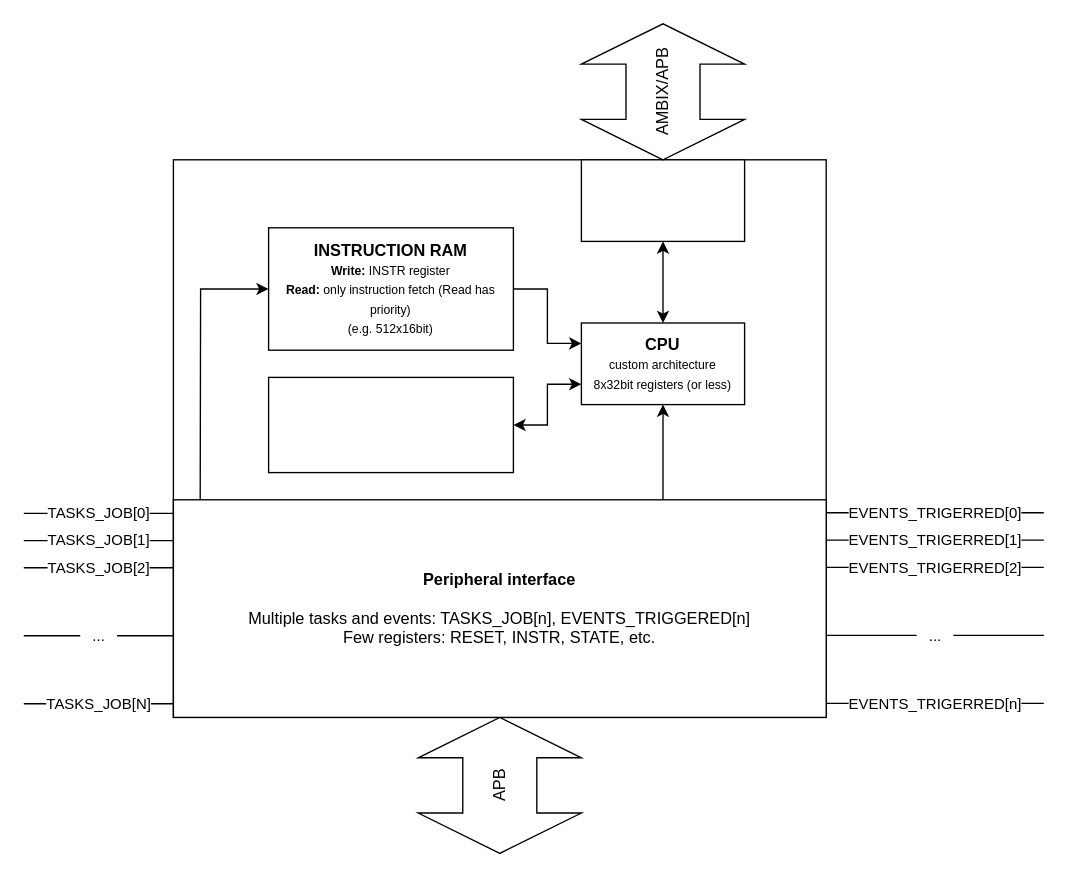
Image size: 1069x877. Some labels were removed from this diagram. Here are the shapes that lost their labels. From the top down, the centre of each, then its label:
At (662,199): "AMBIX/APB bridge Accessible with IN/OUT instructions".
At (390,424): "DATA RAM Accessible only from CPU with LD/ST instructions (e.g. 128x32bit)".
